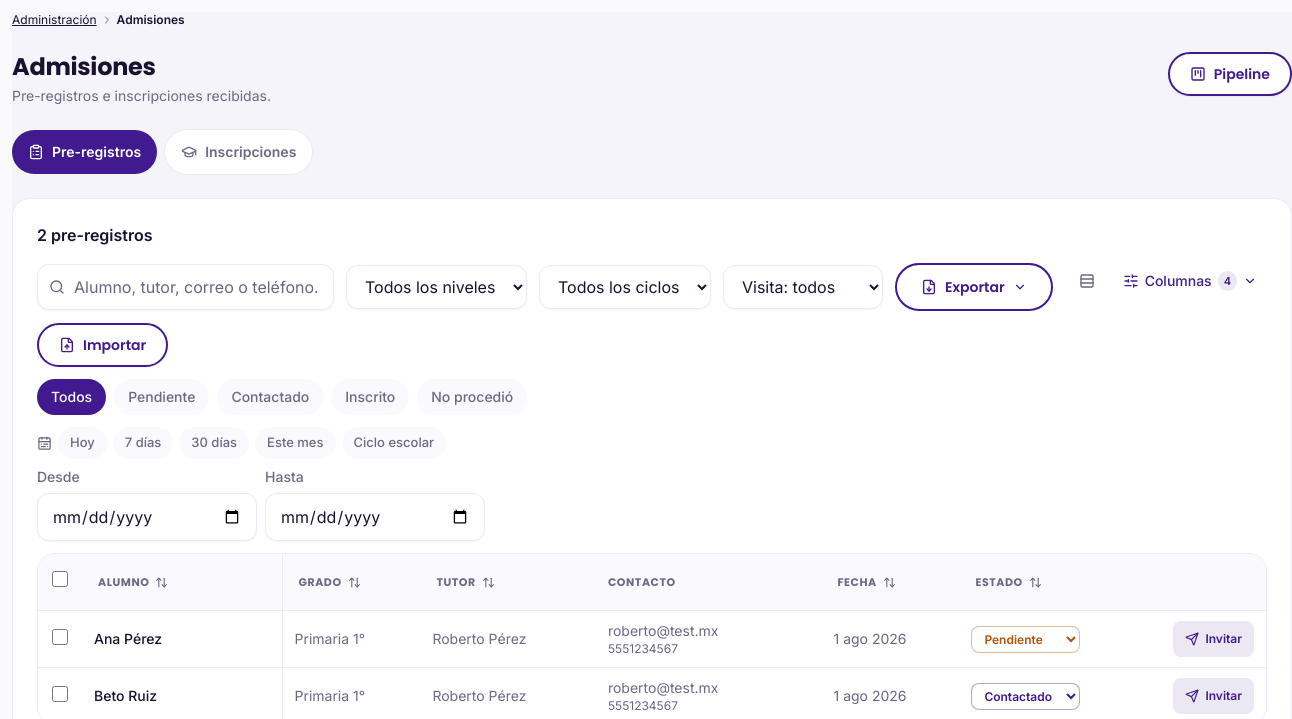
it: AdminAdmissions › invites a family from the row action and shows the link banner
The width and height of the screenshot is (1292, 719).
Click the button with aria-label "Invitar a inscripción: Ana Pérez" at (1214, 639), box [1173,621,1254,657]
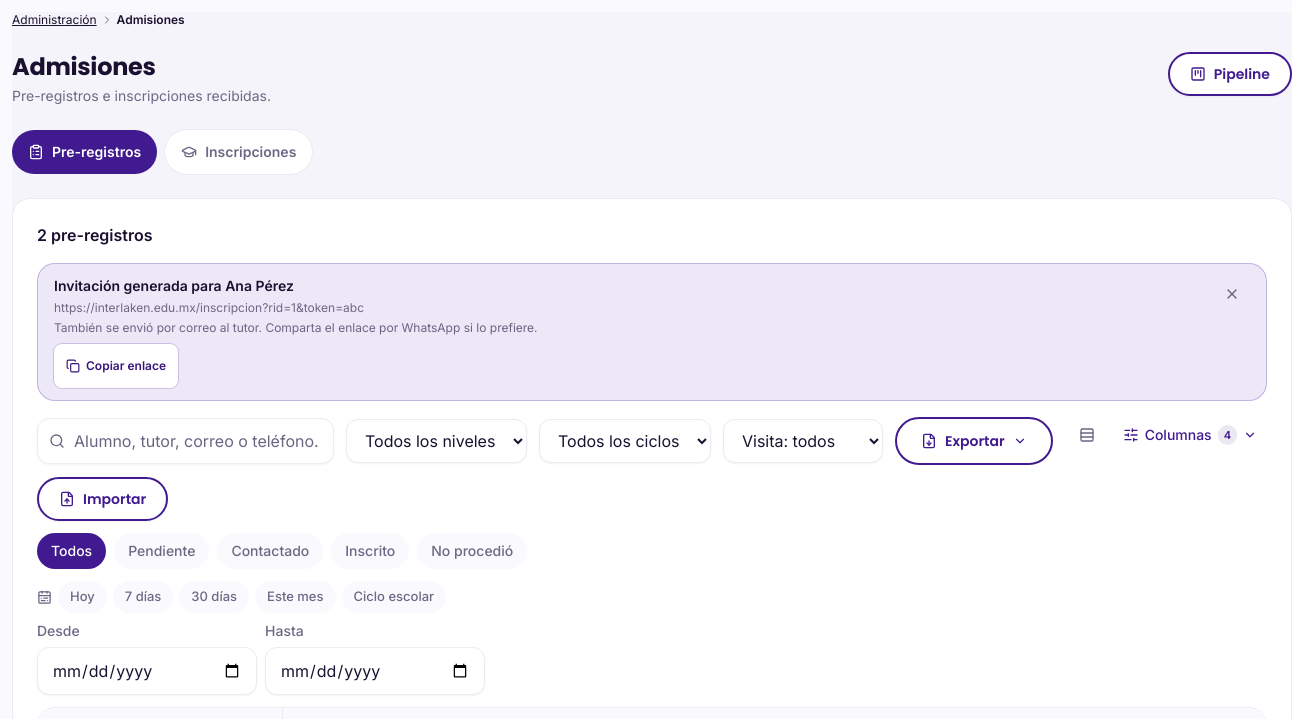
Expected: the text "Invitación generada para Ana Pérez" is shown, [54,277,294,294]
